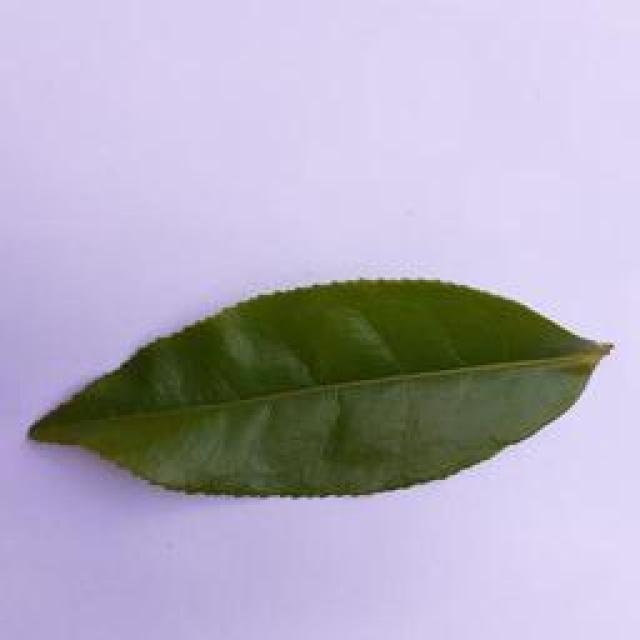Healthy: (18, 272, 620, 516)
